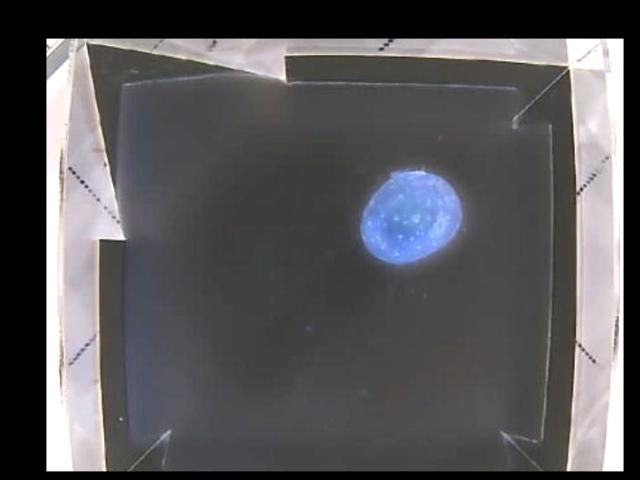Potato: (359, 170, 463, 264)
